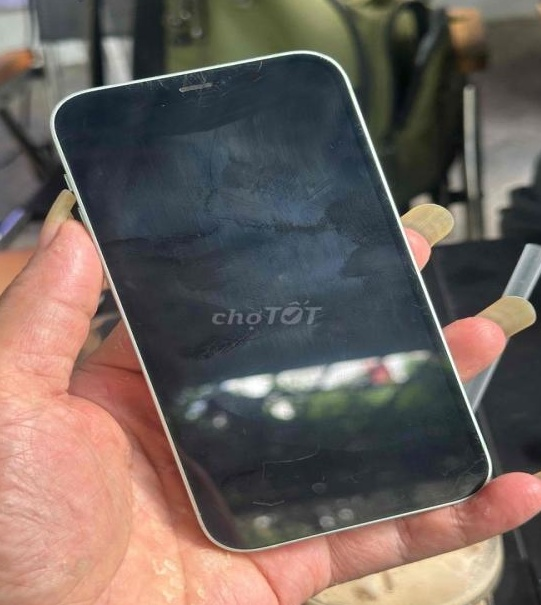physical_damage: (219, 379, 489, 530), (111, 63, 300, 123)
